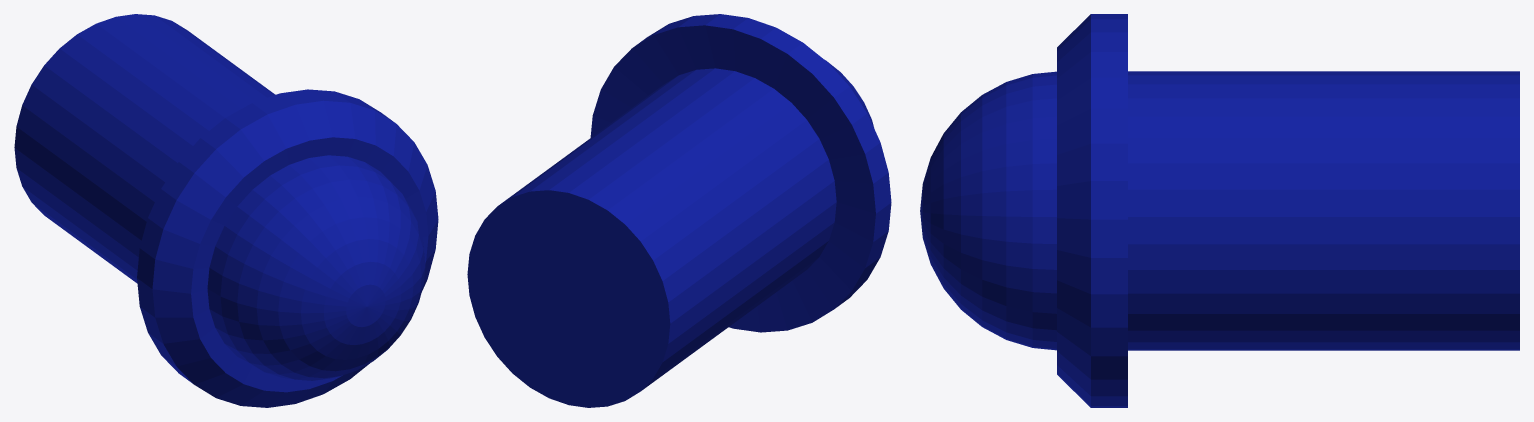
File: Cible.obj
3 renders of one model, left to right at view 1: azimuth 30°, elevation 25°; view 2: azimuth 150°, elevation 25°; view 3: azimuth 270°, elevation 25°, orthographic. The views are drawn at different scales.
Visible parts, largest first — view 1: Cylinder; view 2: Cylinder; view 3: Cylinder.
Part boxes in pixels (left/top/right/bottom): Cylinder: left=14, top=14, right=438, bottom=407; Cylinder: left=467, top=14, right=891, bottom=407; Cylinder: left=920, top=14, right=1519, bottom=407.
Size of the model in its own units: 28.21 by 28.21 by 42.9.
